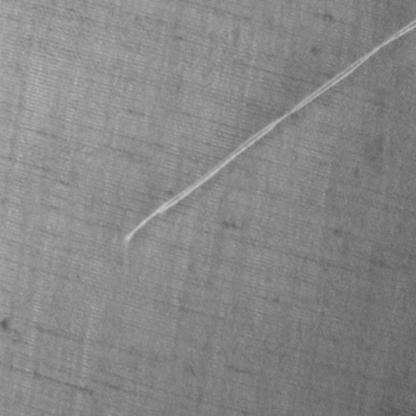objects: (121, 18, 415, 247)
